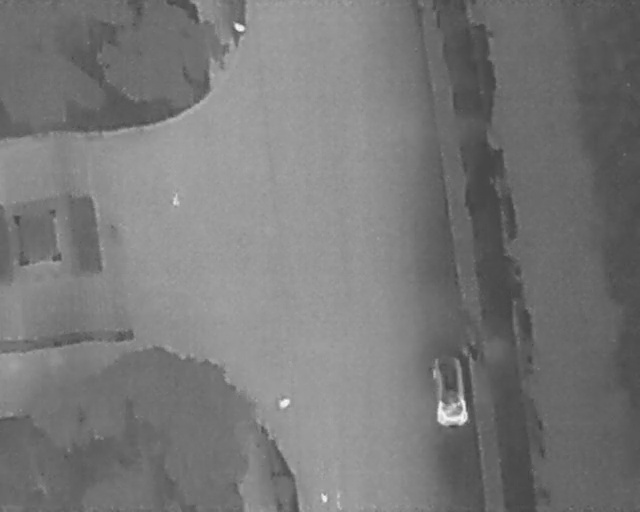Car: (430, 353, 469, 427)
